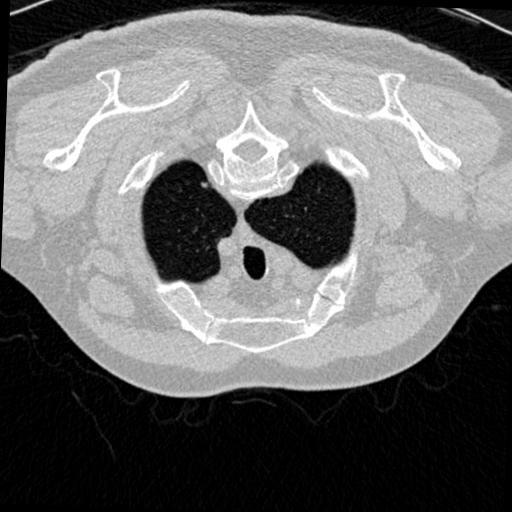nodule: (201, 181, 211, 191)
